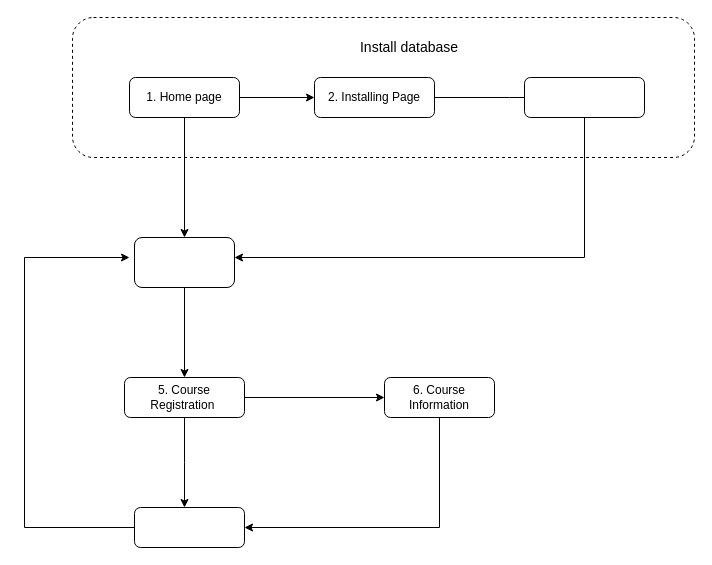
This 712x565 diagram has some shape labels left out. The shapes that lost their labels are listed below. From the top down, each one's centre as x and y in pixels, then its label:
(x=584, y=97): 3. create a database
(x=184, y=262): 4. User Login
(x=189, y=527): 7. LogOut
